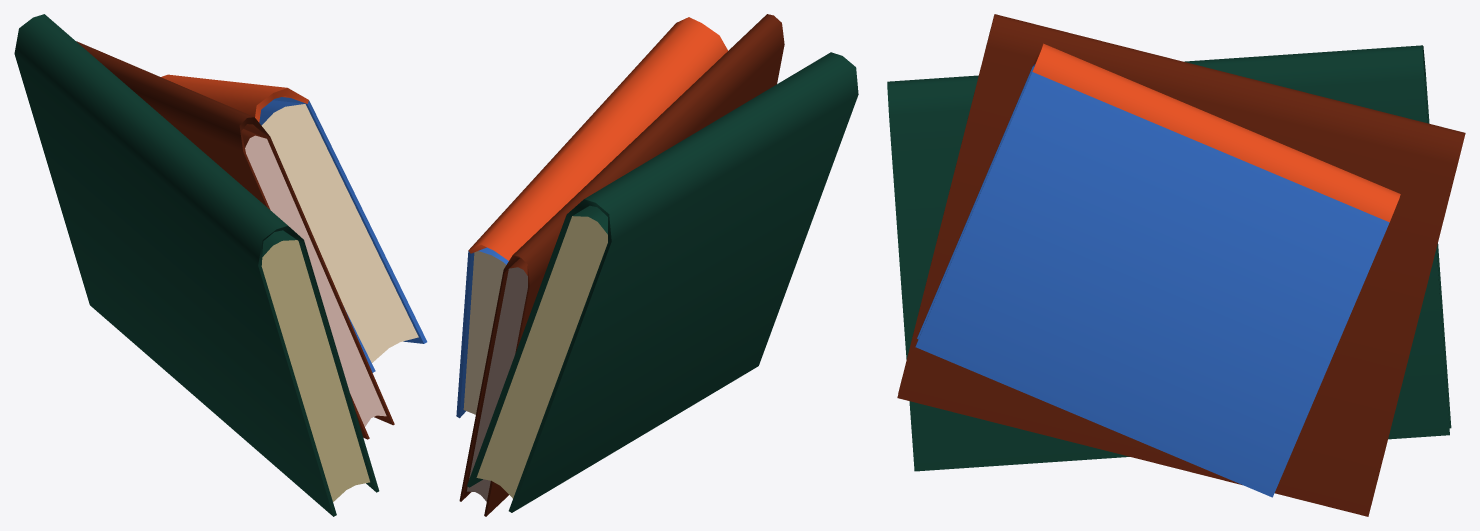
File: books.glb
The picture shows the model from 3 angles, left to right: view 1: azimuth 30°, elevation 25°; view 2: azimuth 150°, elevation 25°; view 3: azimuth 270°, elevation 25°; orthographic projection. The views are drawn at different scales.
Parts seen in each view (by area): view 1: Book_2; view 2: Book_2; view 3: Book_2.
Boxes of the visible parts, x1,y1,x2,y2 form: Book_2: [14, 14, 427, 516]; Book_2: [456, 14, 858, 516]; Book_2: [887, 14, 1465, 516].
Size of the model in its own units: 0.1505 by 0.2565 by 0.3072.
